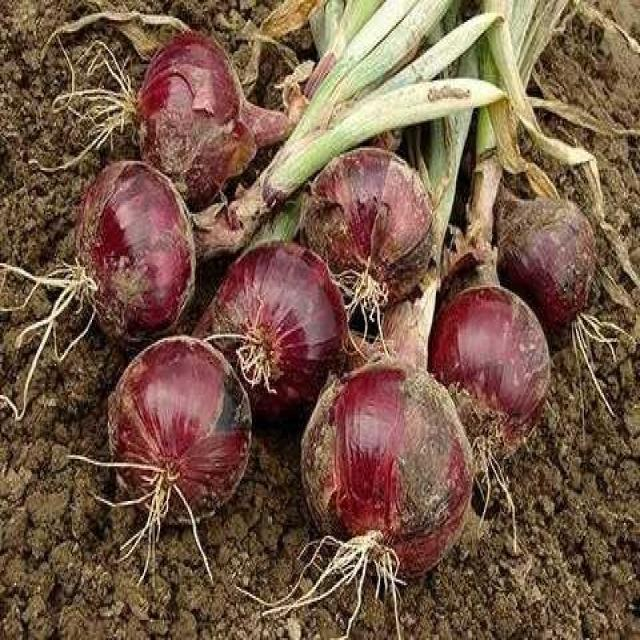onion: (301, 362, 471, 583), (110, 337, 253, 532), (208, 243, 349, 426), (281, 150, 439, 311), (71, 161, 197, 346), (425, 284, 552, 466), (136, 33, 259, 208), (496, 200, 599, 358)
